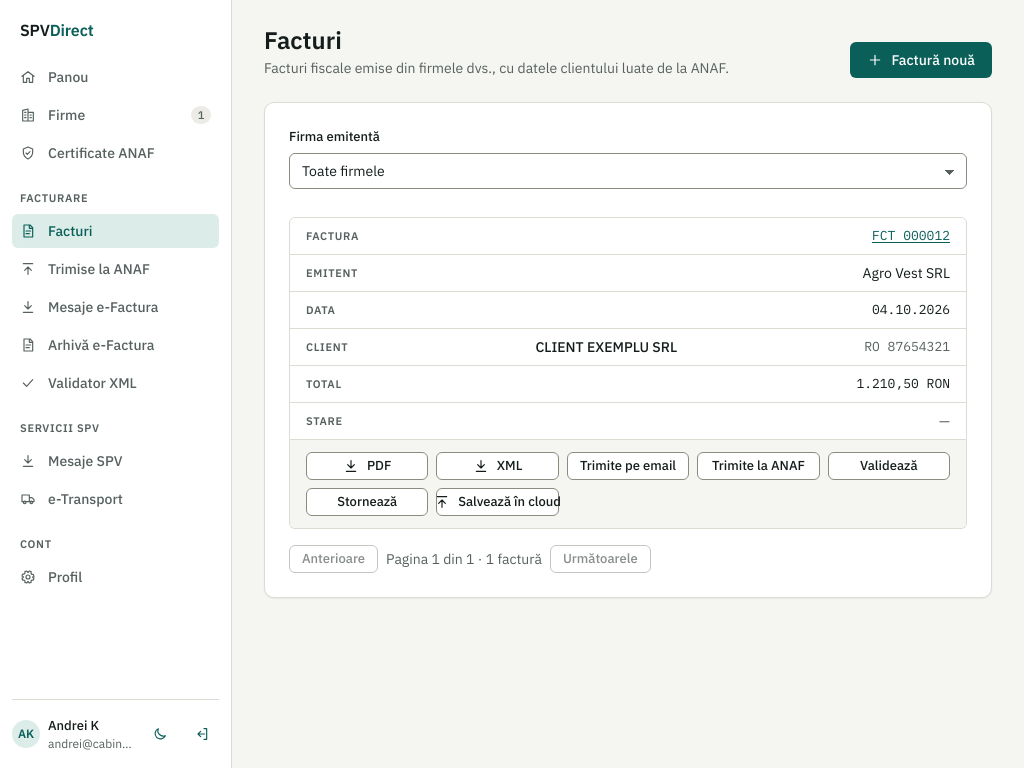
Facturi list › preview › says so when the PDF cannot be loaded
This screenshot has width=1024, height=768.
Click the button with aria-label "Previzualizează FCT 000012".
click(911, 236)  # box [872,226,950,246]
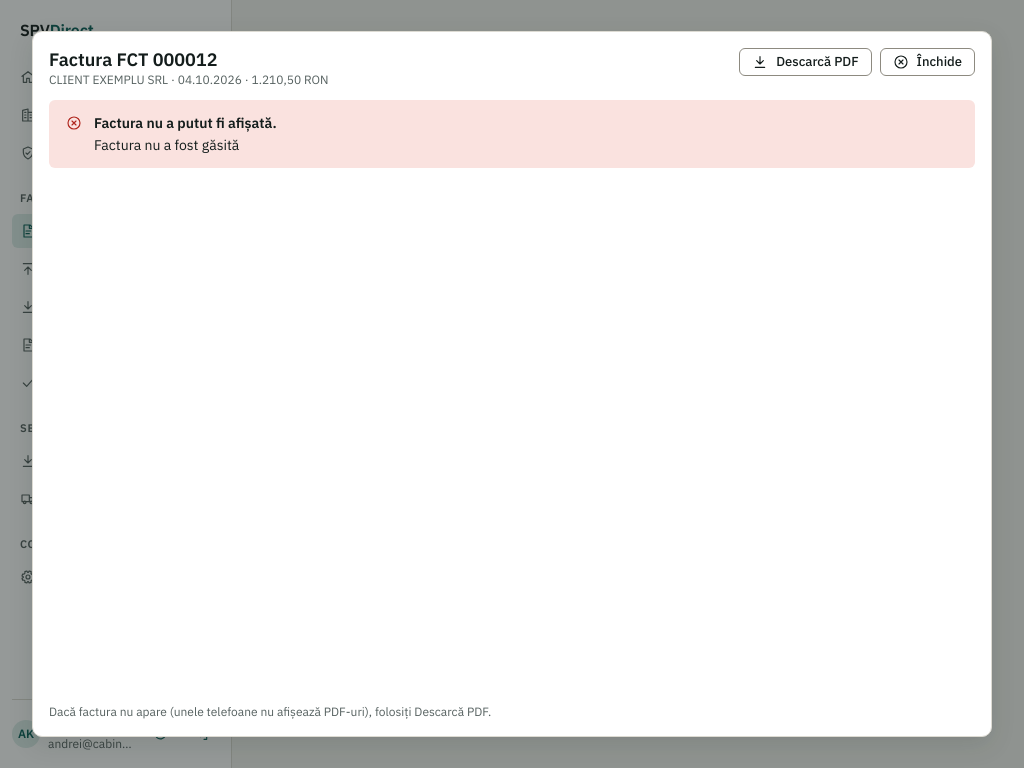
Check: the text "Factura nu a putut fi afișată." is shown, box [94,113,277,133]
